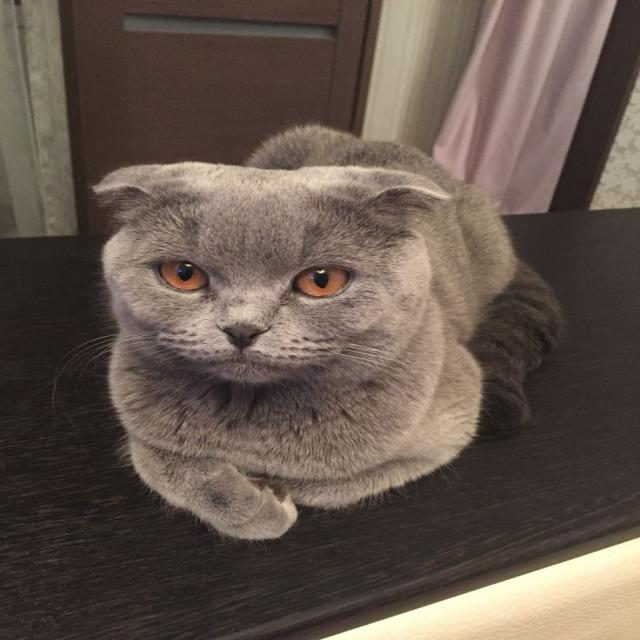british shorthair: (0, 73, 640, 600)
